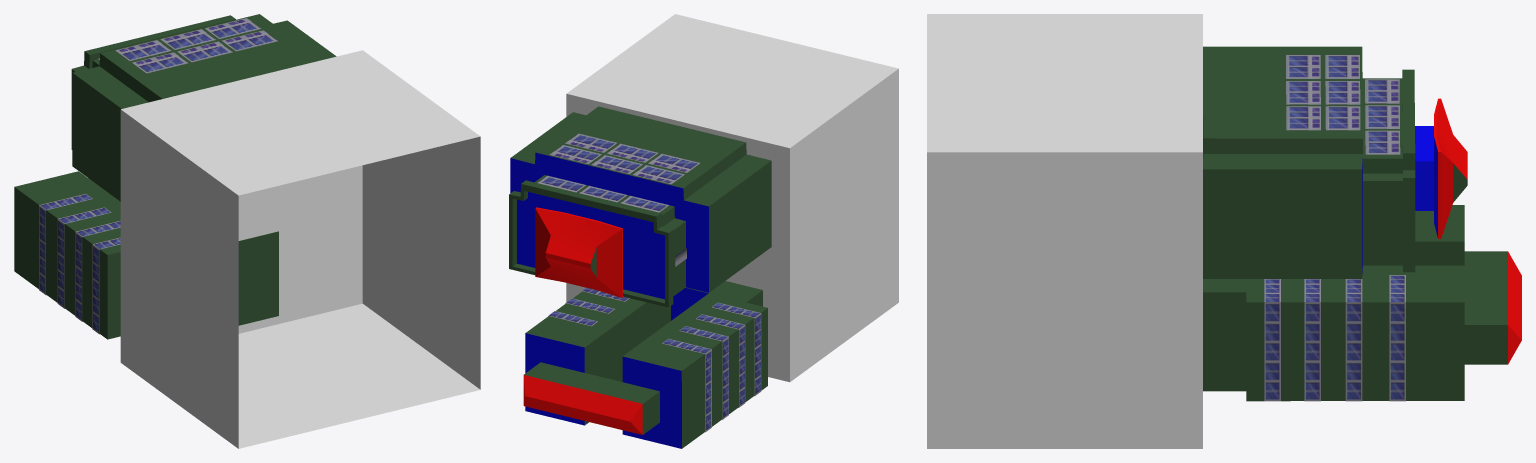
The model's file is block_mixed_02.FBX.
3 renders of one model, left to right at view 1: azimuth 30°, elevation 25°; view 2: azimuth 150°, elevation 25°; view 3: azimuth 270°, elevation 25°, orthographic. The views are drawn at different scales.
Parts seen in each view (by area): view 1: Plane002, 10x10_3s004, Box1029; view 2: Plane002, 10x10_3s004, Box1029; view 3: Plane002, 10x10_3s004, Box1029.
Part boxes in pixels (x1,y1,x2,y2): Plane002: (120,50,480,448); 10x10_3s004: (71,14,336,201); Box1029: (14,171,278,339); Plane002: (566,14,898,382); 10x10_3s004: (509,106,771,307); Box1029: (523,281,767,448); Plane002: (927,14,1202,448); 10x10_3s004: (1203,46,1467,278); Box1029: (1203,205,1521,401).
Bounding box in the file's own units: 30 × 30 × 54.52.
